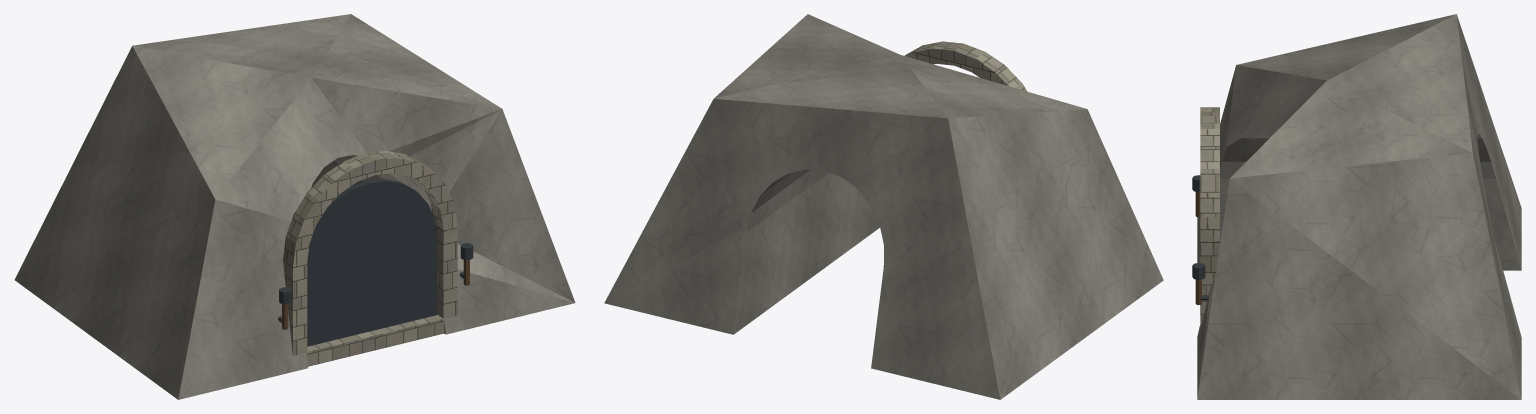
The model's file is Furn_Dungeon_Gate.fbx.
3 renders of one model, left to right at view 1: azimuth 30°, elevation 25°; view 2: azimuth 150°, elevation 25°; view 3: azimuth 270°, elevation 25°, orthographic.
Parts seen in each view (by area): view 1: Furn_Dungeon_Gate_Mesh; view 2: Furn_Dungeon_Gate_Mesh; view 3: Furn_Dungeon_Gate_Mesh.
Part boxes in pixels (<box>): Furn_Dungeon_Gate_Mesh: <box>14,14,575,399</box>; Furn_Dungeon_Gate_Mesh: <box>604,14,1163,399</box>; Furn_Dungeon_Gate_Mesh: <box>1192,14,1521,399</box>.
Bounding box in the file's own units: 14 × 8 × 10.15.
